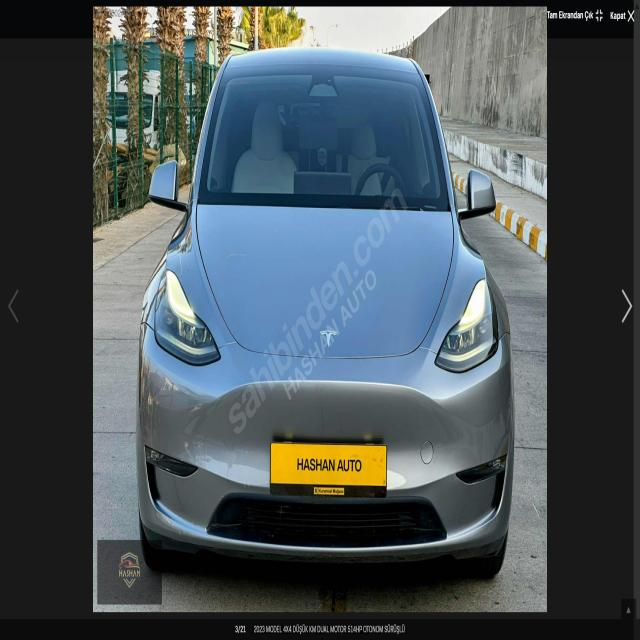tesla: (311, 318, 349, 358)
